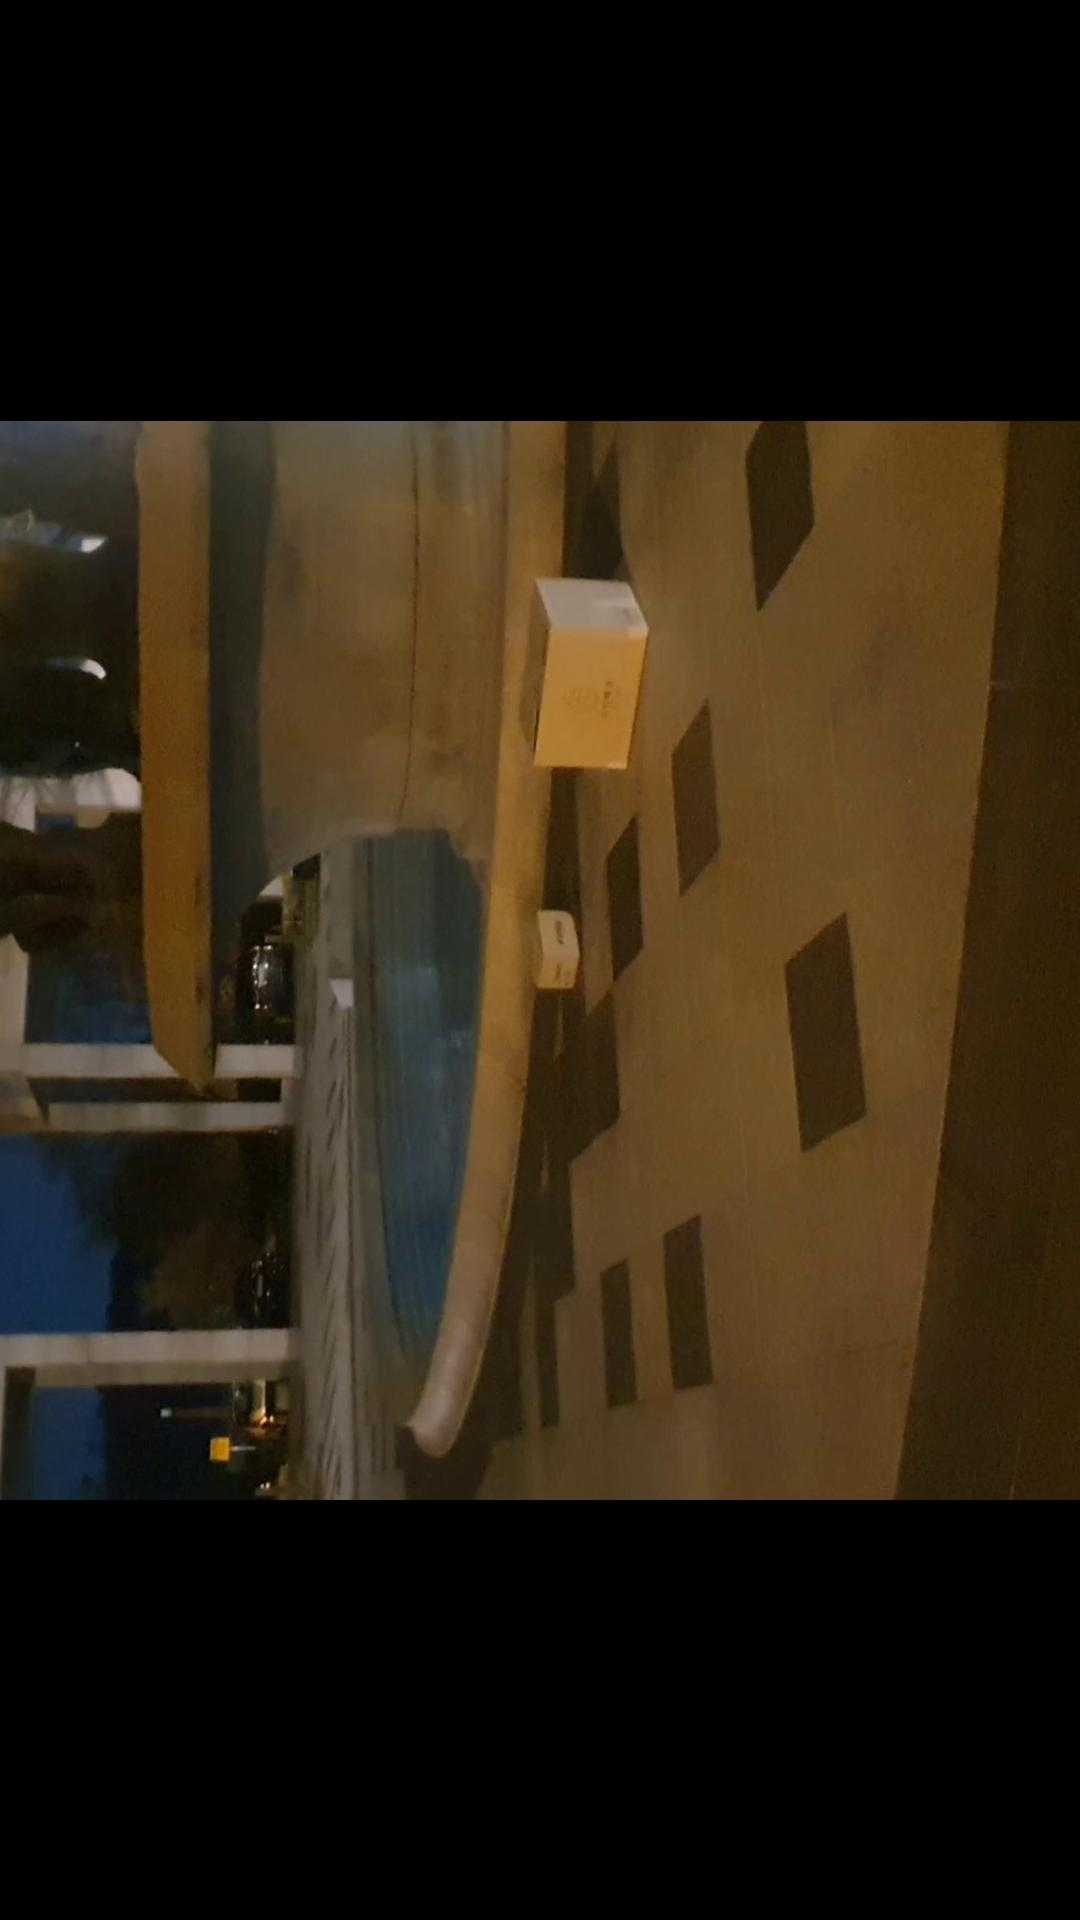Box: (518, 574, 655, 777), (502, 905, 588, 1007)
